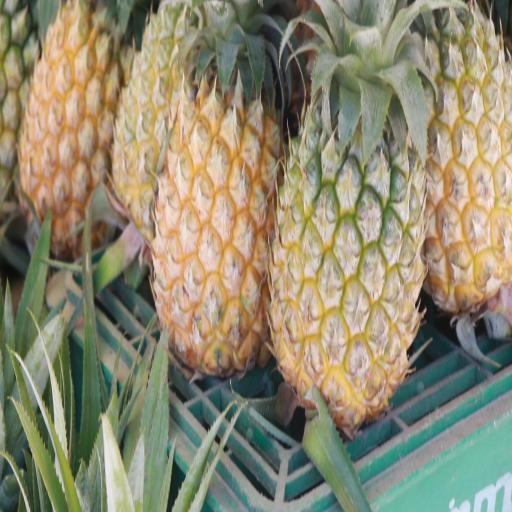------------------------------: (269, 0, 430, 446)
Pineapple - v8 v1: (147, 0, 286, 384), (399, 0, 512, 317), (10, 0, 126, 253)
